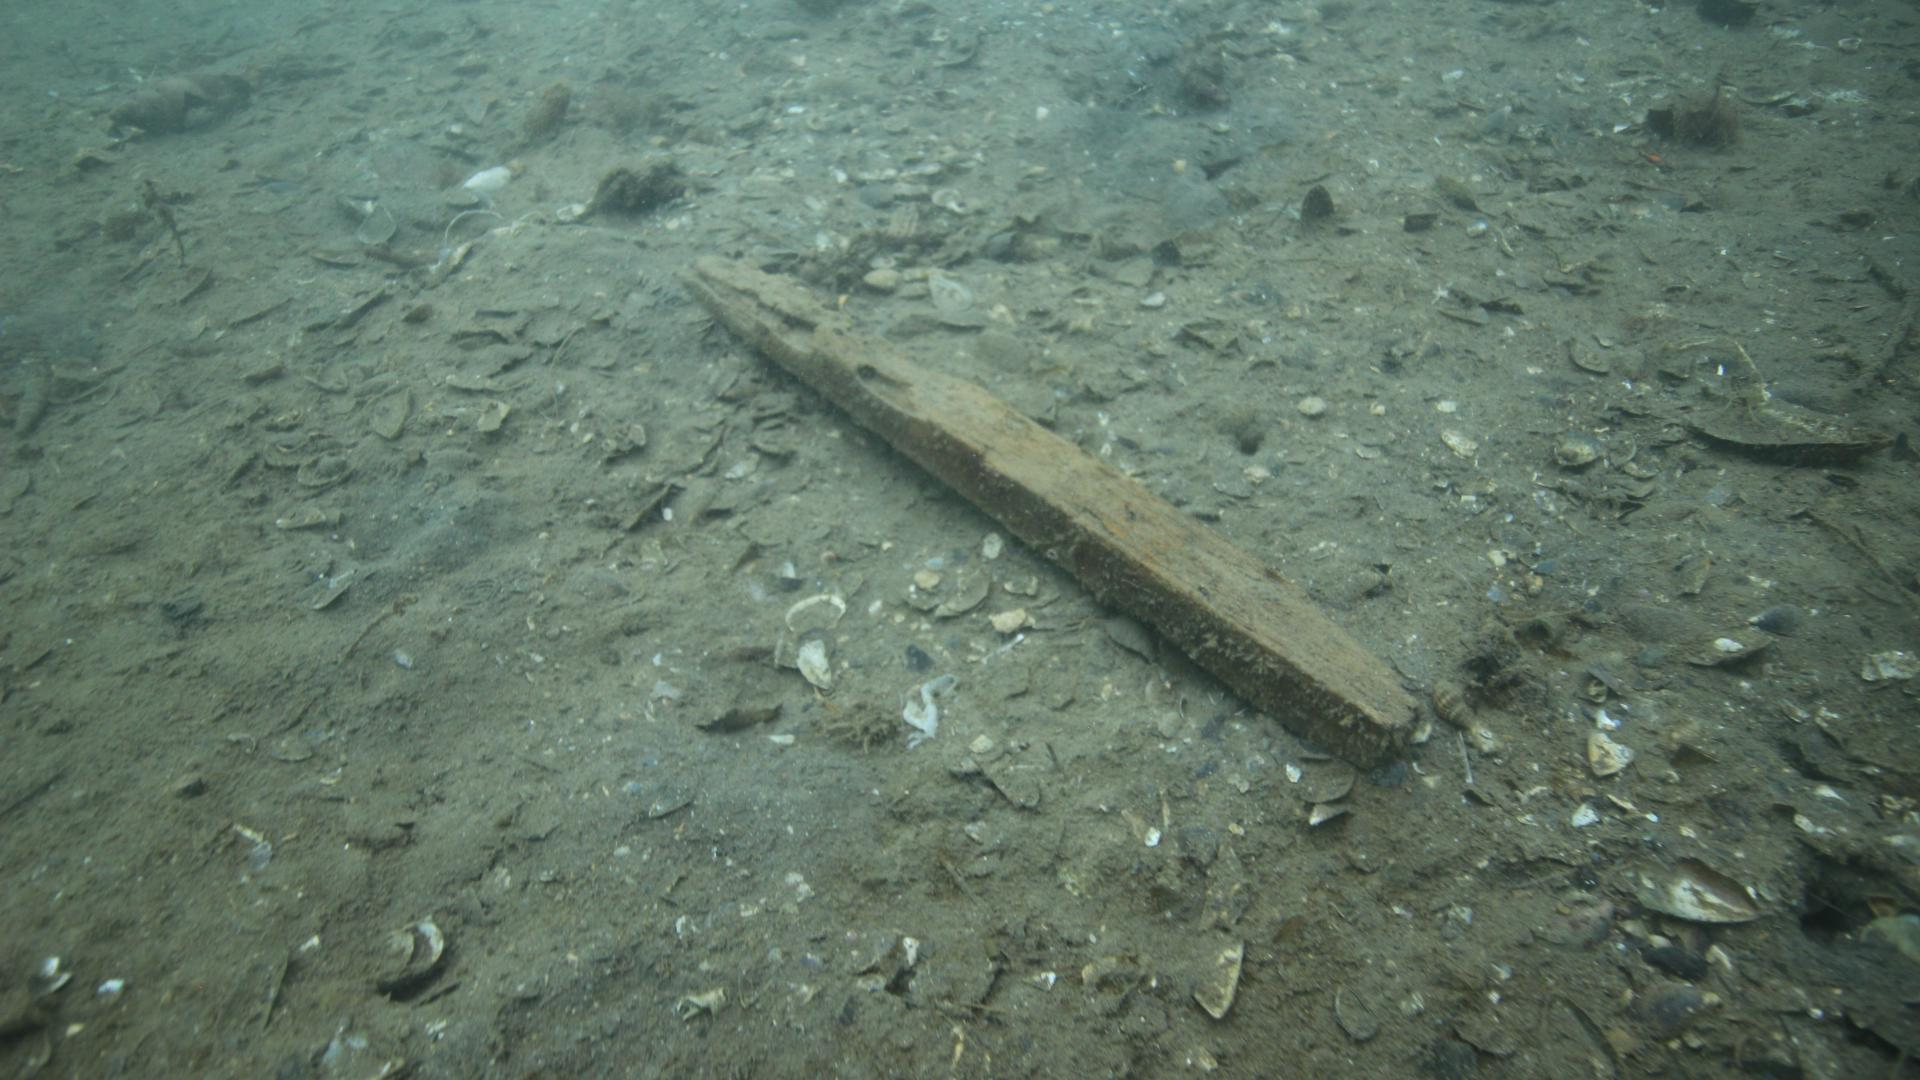wood: (670, 237, 1428, 783)
